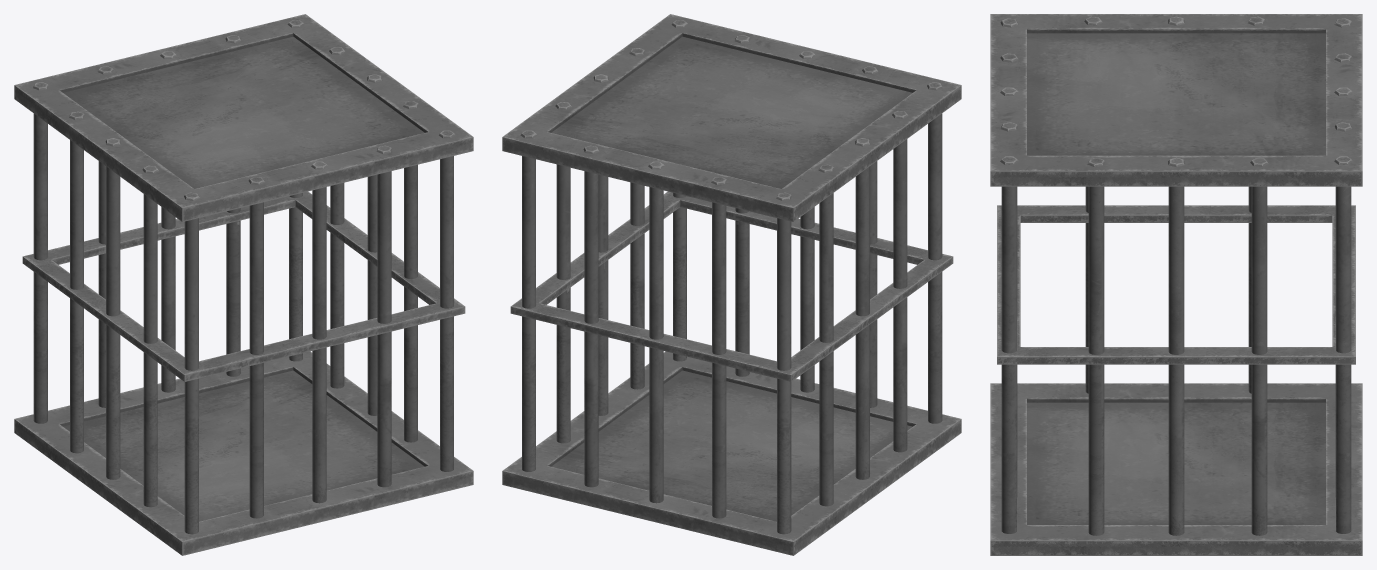
Rendered from cage_metal_01.fbx.
3 views of the same model, side by side, from view 1: azimuth 30°, elevation 25°; view 2: azimuth 150°, elevation 25°; view 3: azimuth 270°, elevation 25° (orthographic). The views are drawn at different scales.
Visible parts, largest first — view 1: cage_metal_01; view 2: cage_metal_01; view 3: cage_metal_01.
Boxes of the visible parts, <box> form: cage_metal_01: <box>14,14,473,555</box>; cage_metal_01: <box>502,14,961,555</box>; cage_metal_01: <box>990,14,1362,555</box>.
Size of the model in its own units: 224 by 257 by 224.
